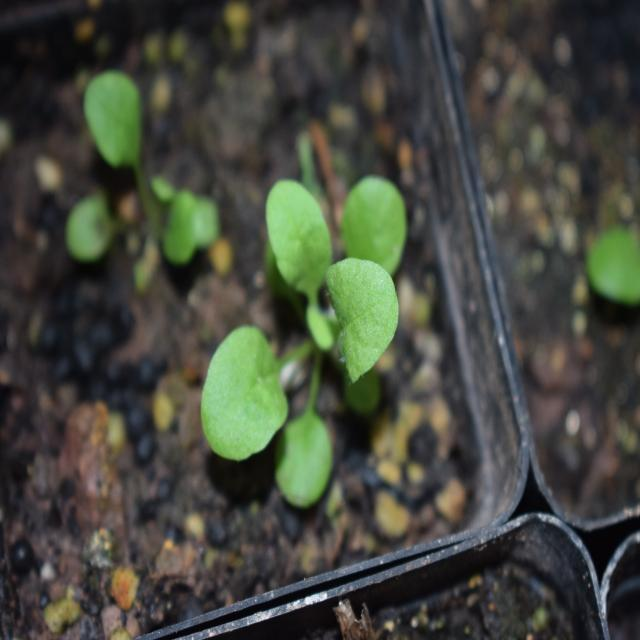Shepherd_Purse: (192, 172, 412, 492)
